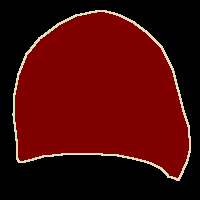hat: (13, 10, 190, 180)
